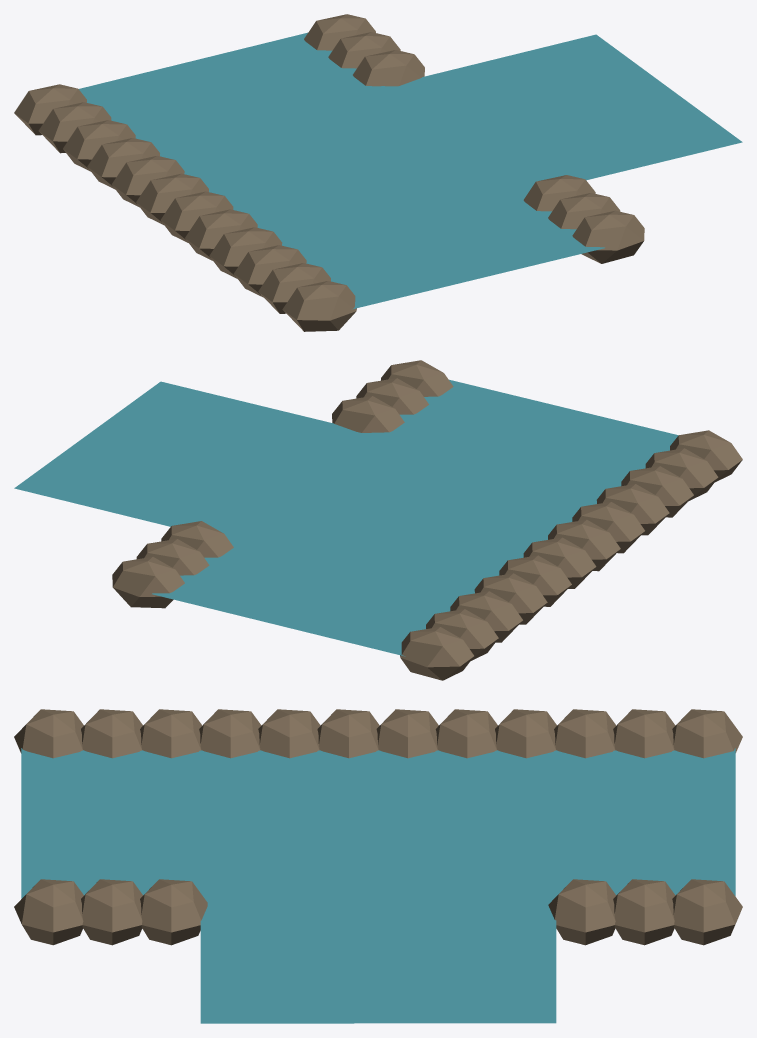
Rendered from landscape-river-tee.lod1.glb.
3 renders of one model, top to bottom at view 1: azimuth 30°, elevation 25°; view 2: azimuth 150°, elevation 25°; view 3: azimuth 270°, elevation 25°, orthographic. The views are drawn at different scales.
Parts seen in each view (by area): view 1: landscape-river-tee__body; view 2: landscape-river-tee__body; view 3: landscape-river-tee__body.
Boxes of the visible parts, x1,y1,x2,y2 form: landscape-river-tee__body: (14, 14, 742, 331); landscape-river-tee__body: (14, 360, 742, 680); landscape-river-tee__body: (14, 709, 742, 1023).
Bounding box in the file's own units: 6.08 × 0.5 × 6.16.
